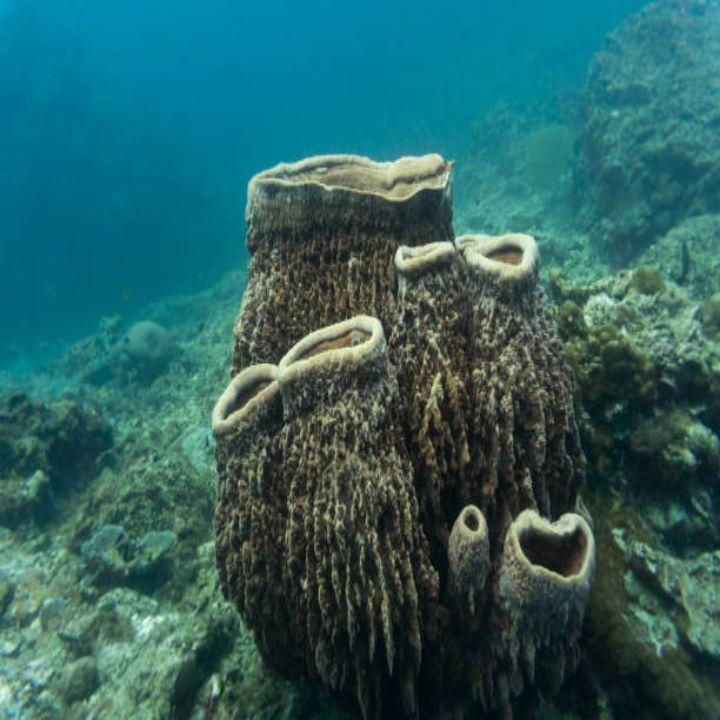Dead Coral: (208, 124, 628, 688)
